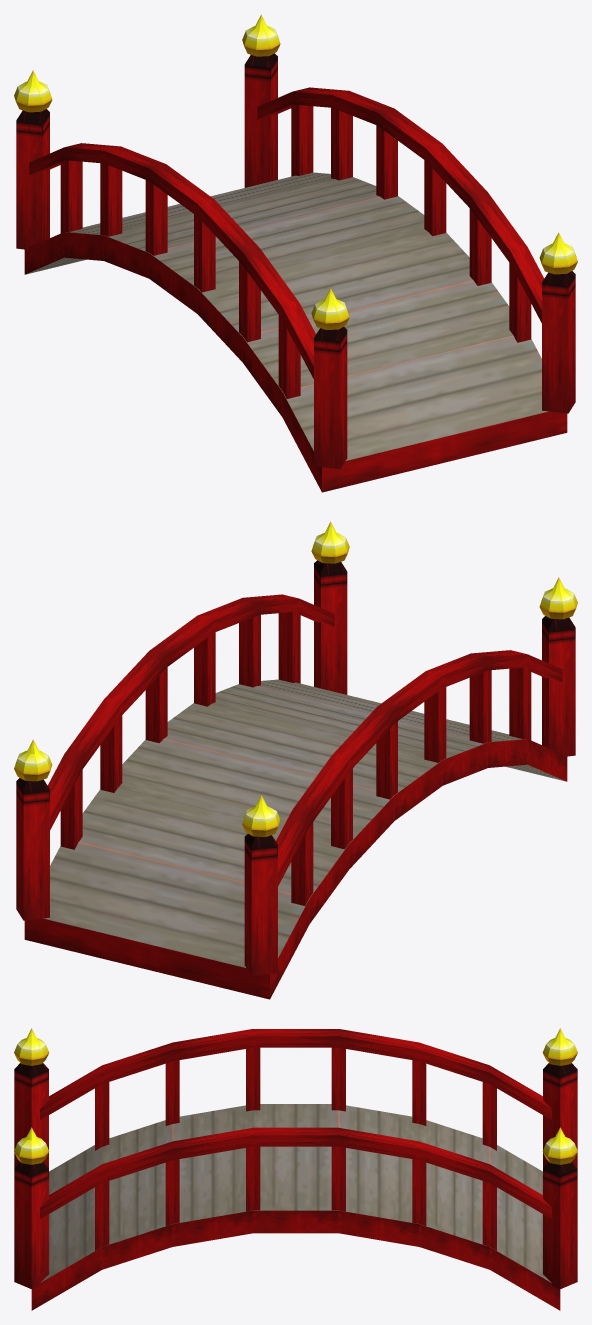
Rendered from Chao Karate Bridge.obj.
The picture shows the model from 3 angles, top to bottom: view 1: azimuth 30°, elevation 25°; view 2: azimuth 150°, elevation 25°; view 3: azimuth 270°, elevation 25°; orthographic projection. The views are drawn at different scales.
Parts seen in each view (by area): view 1: Mesh_0056; view 2: Mesh_0056; view 3: Mesh_0056.
Part boxes in pixels (x1=…): Mesh_0056: x1=14, y1=14, x2=577, y2=492; Mesh_0056: x1=14, y1=521, x2=577, y2=999; Mesh_0056: x1=14, y1=1028, x2=577, y2=1310.
Bounding box in the file's own units: 1.28 × 0.9475 × 2.69.
Materials: 1 (1 with a texture image).
